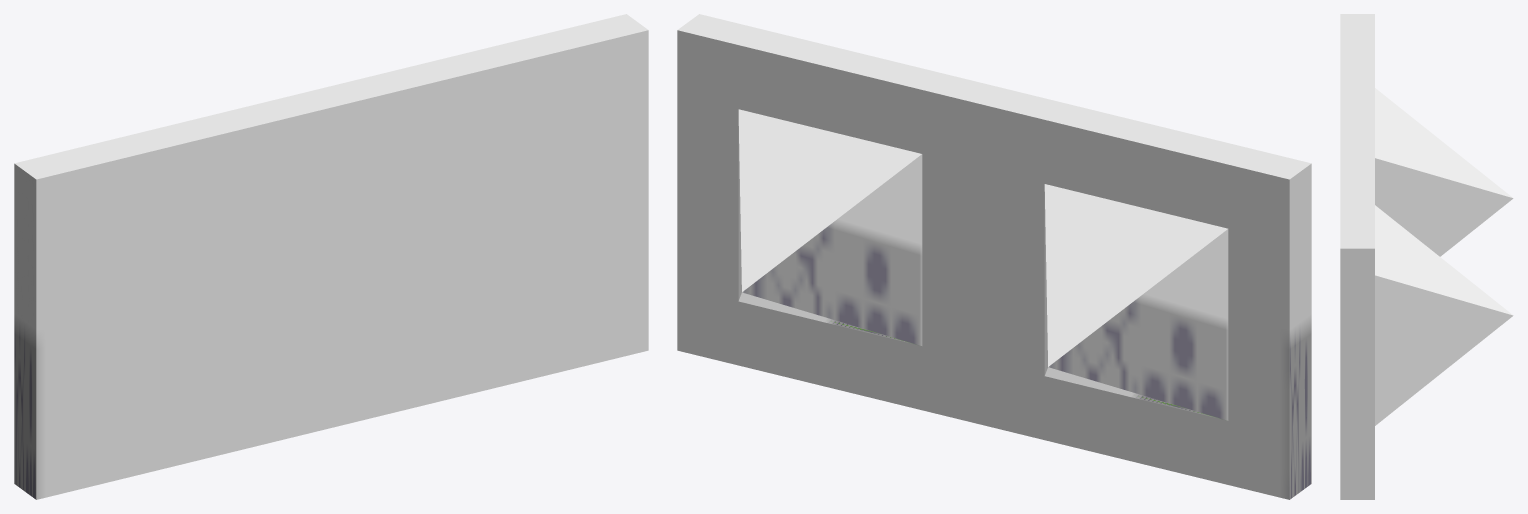
Rendered from WallSpikeShort.obj.
3 renders of one model, left to right at view 1: azimuth 30°, elevation 25°; view 2: azimuth 150°, elevation 25°; view 3: azimuth 270°, elevation 25°, orthographic. The views are drawn at different scales.
Visible parts, largest first — view 1: Base; view 2: Base, Spike1.001, Spike1; view 3: Base, Spike1, Spike1.001.
Part boxes in pixels (bbox=[...]): Base: bbox=[14, 14, 648, 499]; Base: bbox=[677, 14, 1311, 499]; Spike1.001: bbox=[1044, 184, 1228, 420]; Spike1: bbox=[738, 109, 922, 345]; Base: bbox=[1340, 14, 1374, 499]; Spike1: bbox=[1375, 205, 1513, 425]; Spike1.001: bbox=[1375, 88, 1513, 256].
Bounding box in the file's own units: 1.6 × 0.8 × 0.5.
